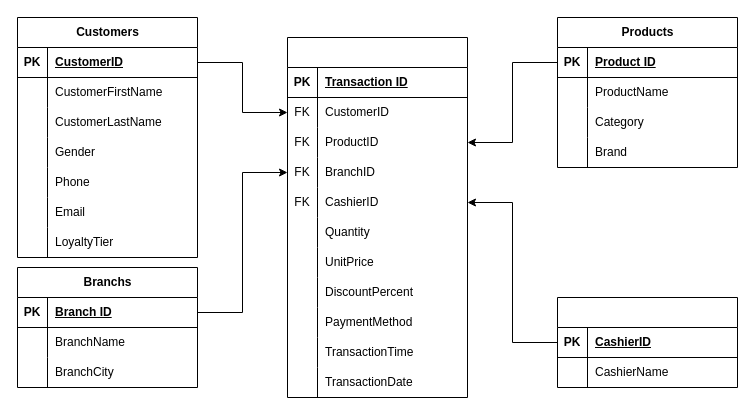
Some shapes in this 755 by 415 pixel diagram are drawn without their labels. The box of each missing label's shape, as (x1, y1, x2, y2) in pixels:
Cashiers: (556, 296, 738, 388)
Sales: (286, 36, 468, 398)
